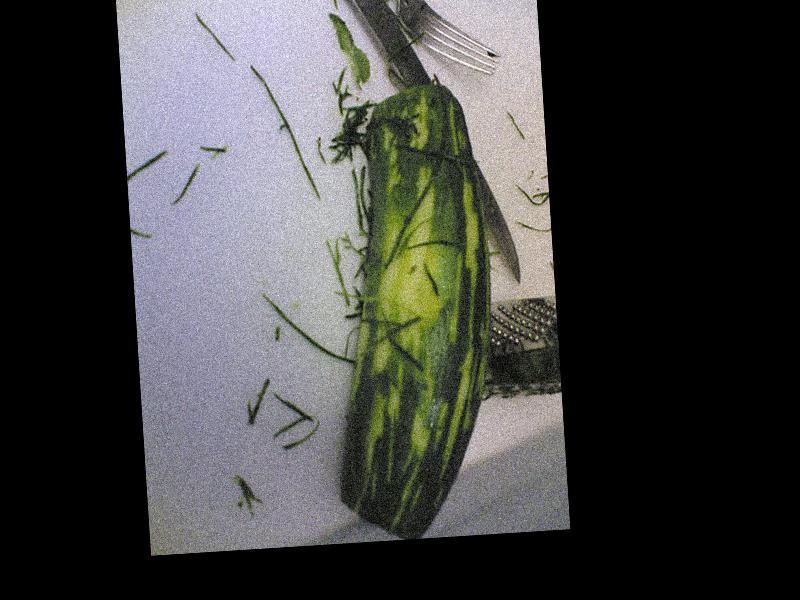Cucumber: (314, 80, 506, 540)
